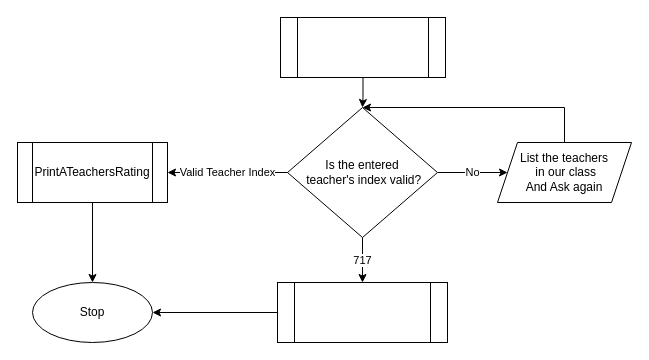
Image size: 649x360. Some labels were removed from this diagram. The centre of each missing label's shape, as x and y in pixels:
"PrintAllTeachersRatings" belongs at [362,312].
"TeachersRatingPrint" belongs at [363,47].
